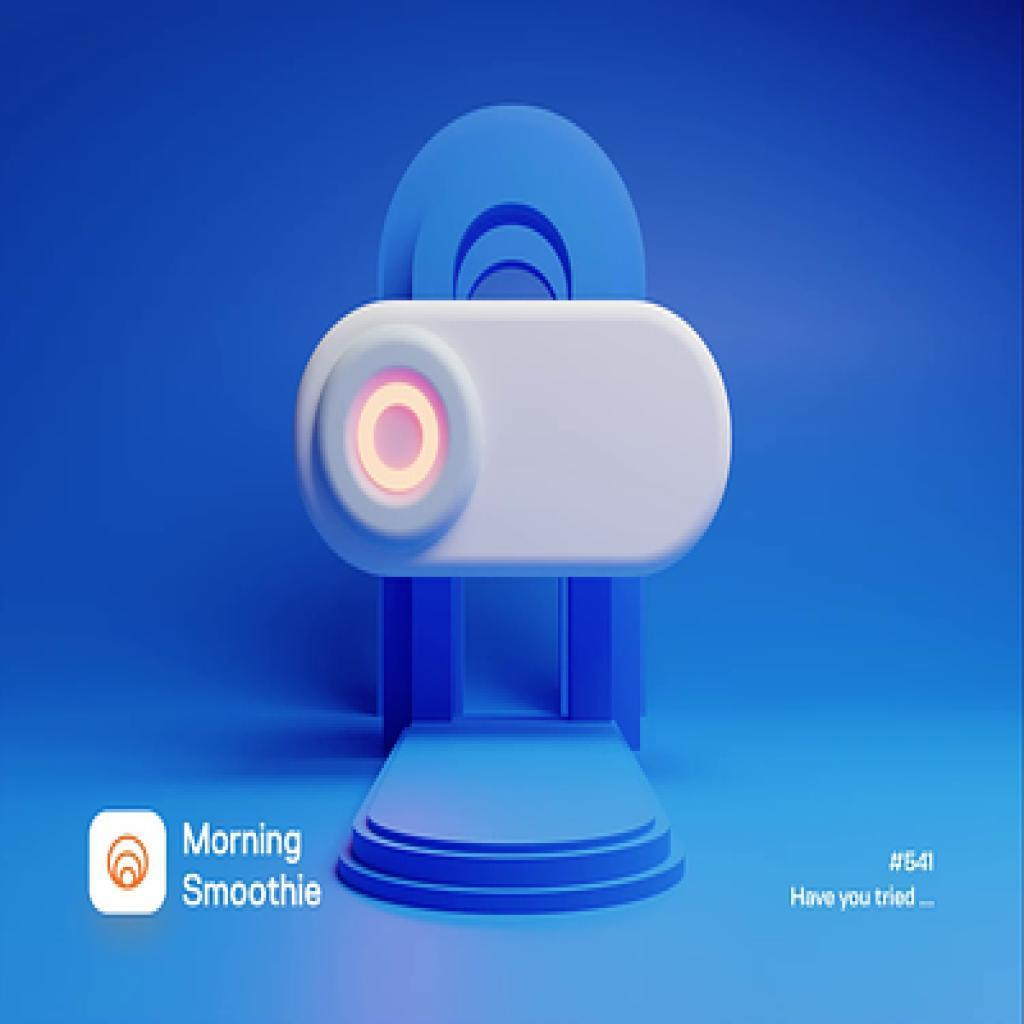switch: (293, 299, 731, 581)
